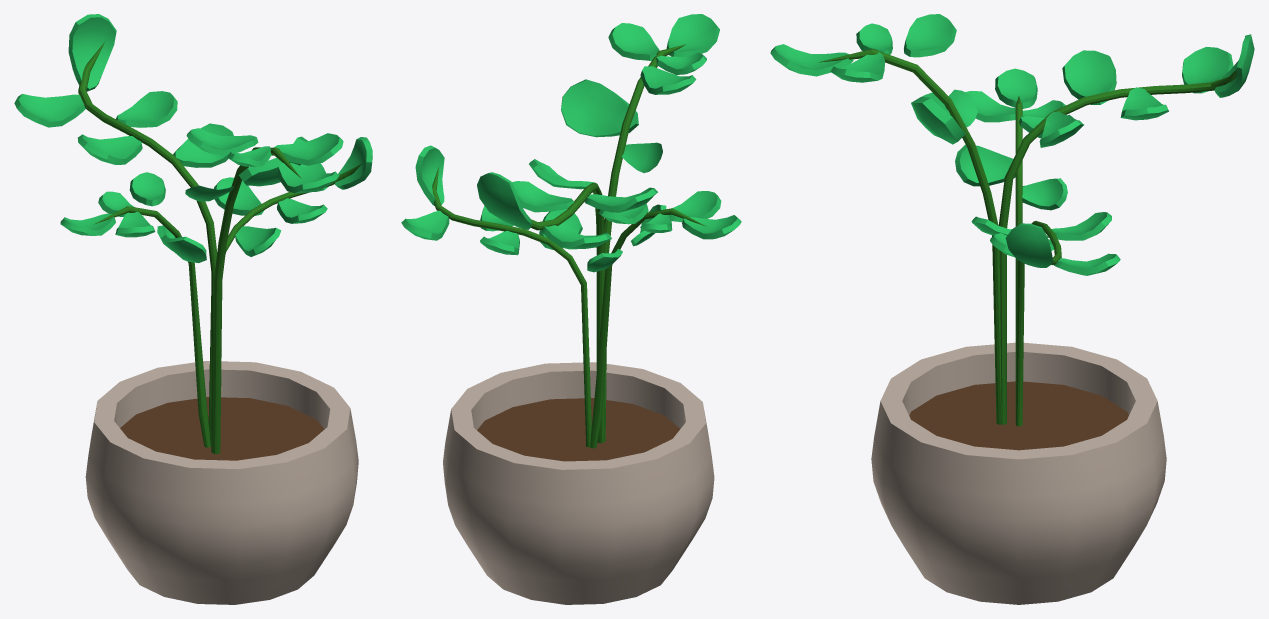
File: Plant.fbx
3 views of the same model, side by side, from view 1: azimuth 30°, elevation 25°; view 2: azimuth 150°, elevation 25°; view 3: azimuth 270°, elevation 25° (orthographic). The views are drawn at different scales.
Visible parts, largest first — view 1: Plant; view 2: Plant; view 3: Plant.
Boxes of the visible parts, x1,y1,x2,y2 form: Plant: [14, 14, 372, 604]; Plant: [401, 14, 741, 604]; Plant: [770, 14, 1254, 604].
Size of the model in its own units: 50.83 by 74.35 by 63.72.
